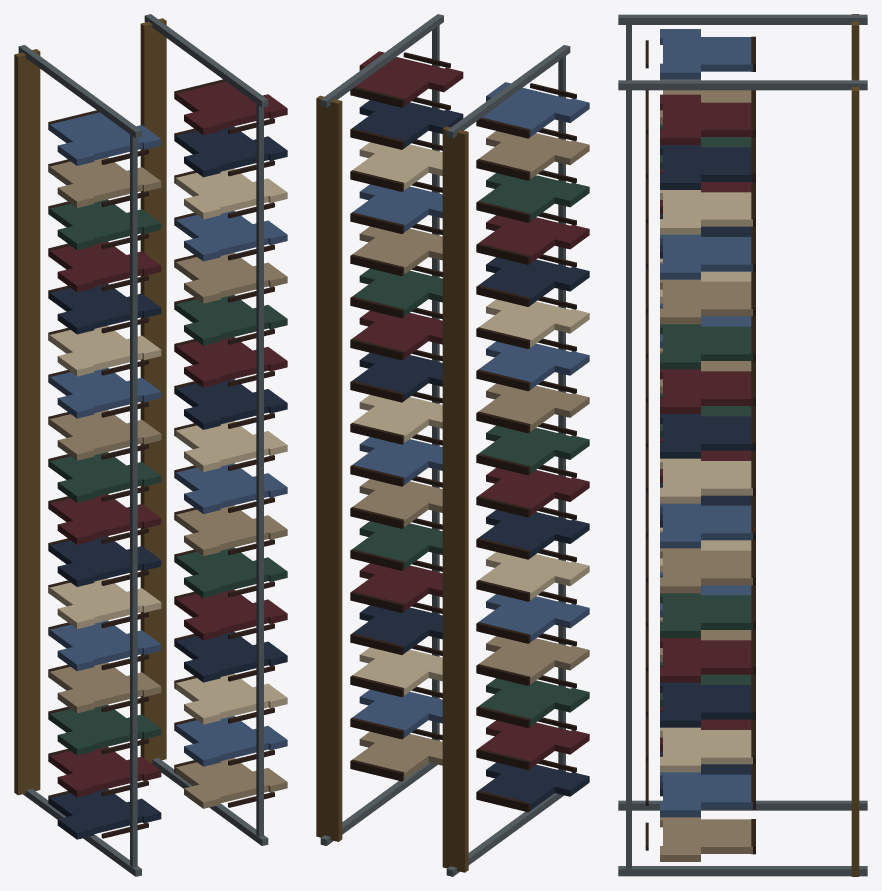
Rendered from SM_BSW_ClothingRun.obj.
The picture shows the model from 3 angles, left to right: view 1: azimuth 30°, elevation 25°; view 2: azimuth 150°, elevation 25°; view 3: azimuth 270°, elevation 25°; orthographic projection. The views are drawn at different scales.
Parts seen in each view (by area): view 1: SM_BSW_ClothingRun; view 2: SM_BSW_ClothingRun; view 3: SM_BSW_ClothingRun.
Part boxes in pixels (x1=…): SM_BSW_ClothingRun: x1=14, y1=14, x2=287, y2=876; SM_BSW_ClothingRun: x1=316, y1=14, x2=589, y2=876; SM_BSW_ClothingRun: x1=618, y1=14, x2=867, y2=876.
Bounding box in the file's own units: 170 × 575 × 164.
